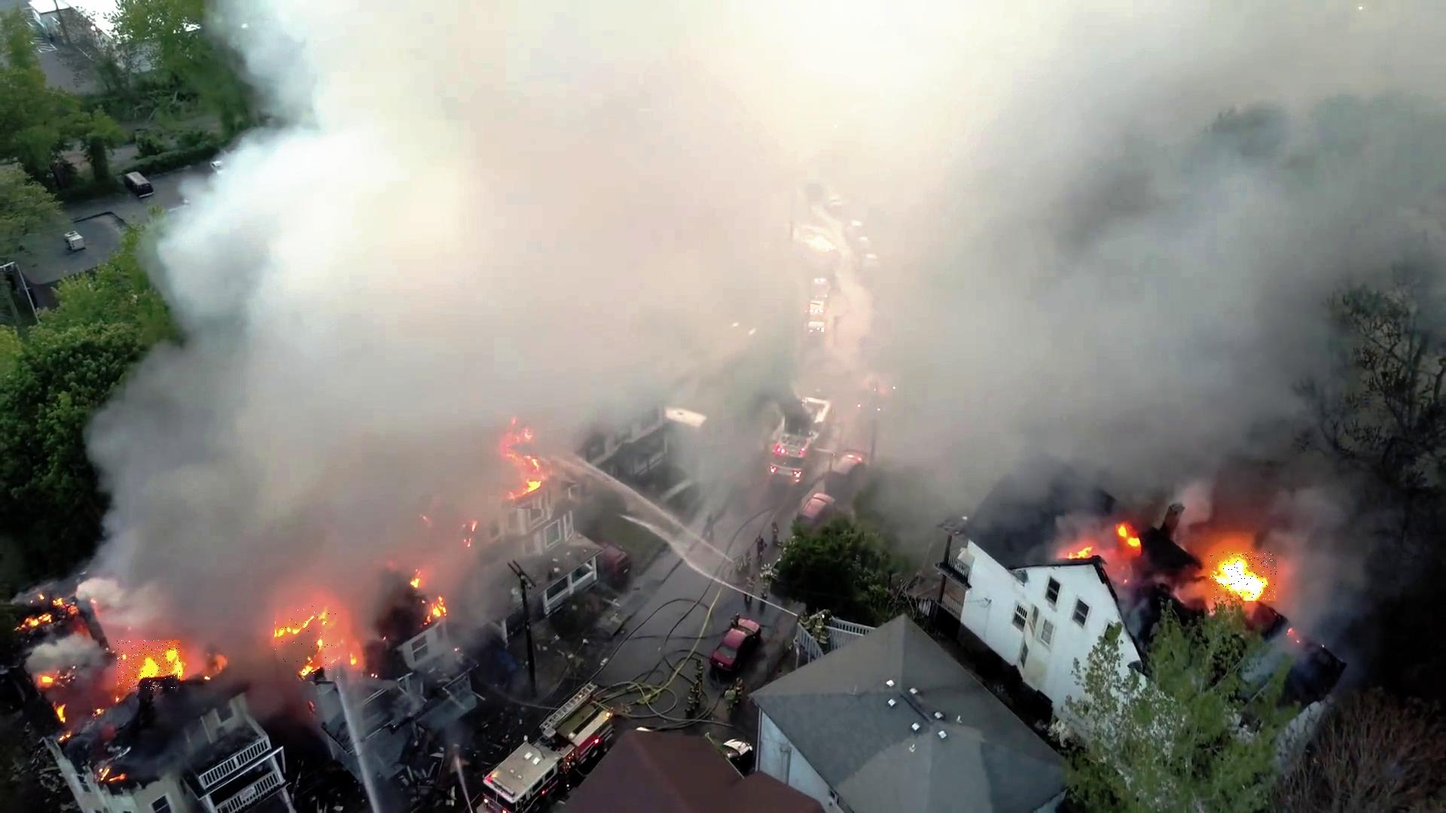fire: (275, 607, 346, 683), (501, 428, 555, 509), (1209, 552, 1277, 601), (117, 640, 180, 691)
